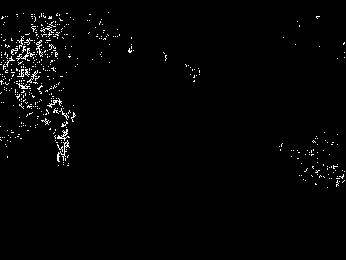person: (45, 96, 74, 168)
